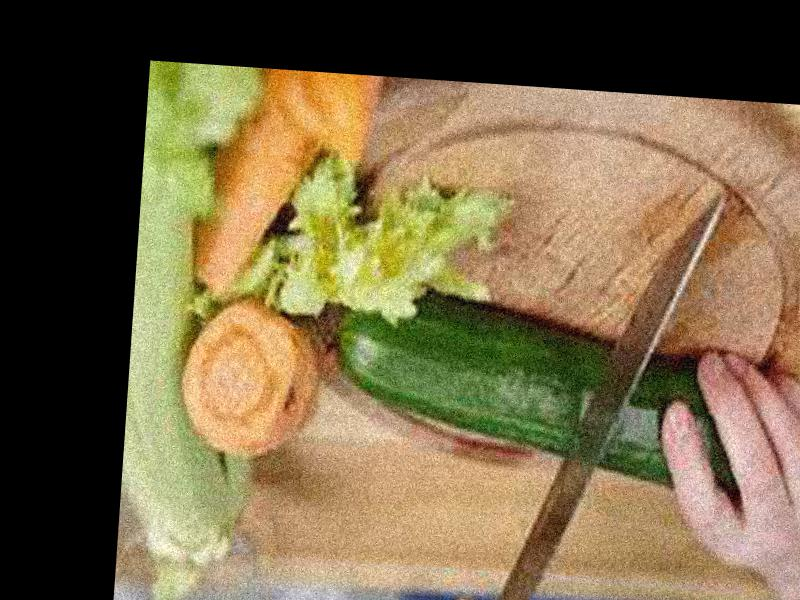Cucumber: (326, 294, 748, 493)
